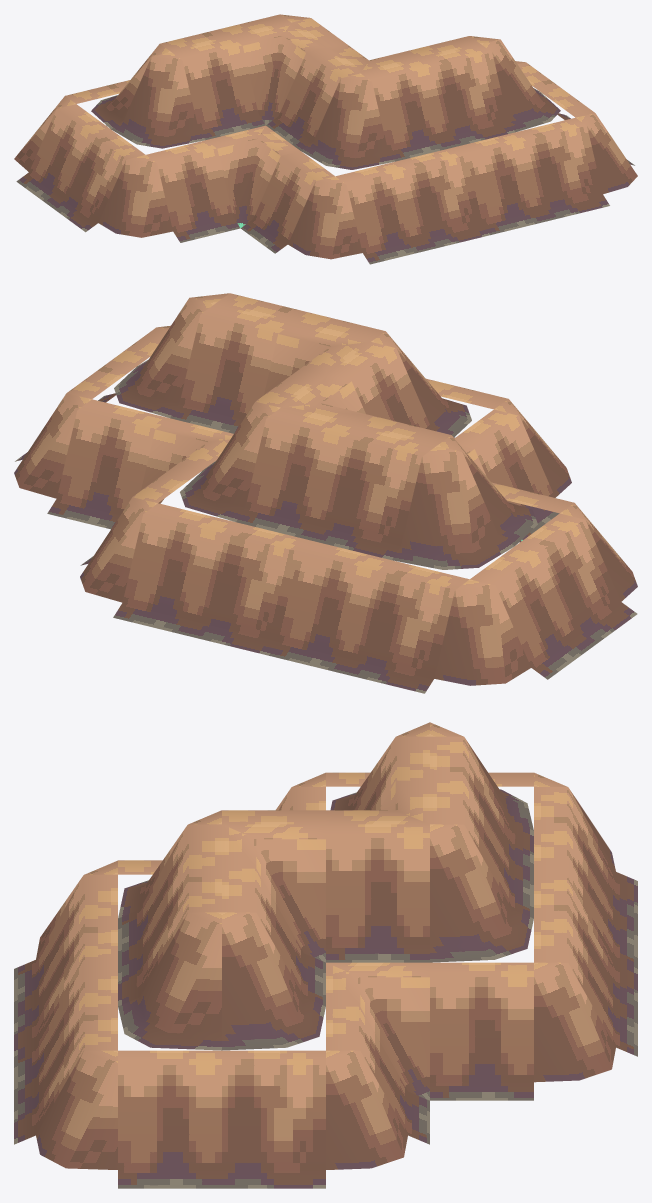
The model's file is hgss-piece-004-element-21-0.glb.
3 renders of one model, top to bottom at view 1: azimuth 30°, elevation 25°; view 2: azimuth 150°, elevation 25°; view 3: azimuth 270°, elevation 25°, orthographic. The views are drawn at different scales.
Size of the model in its own units: 8 by 2 by 6.
1 material, 1 textured.
